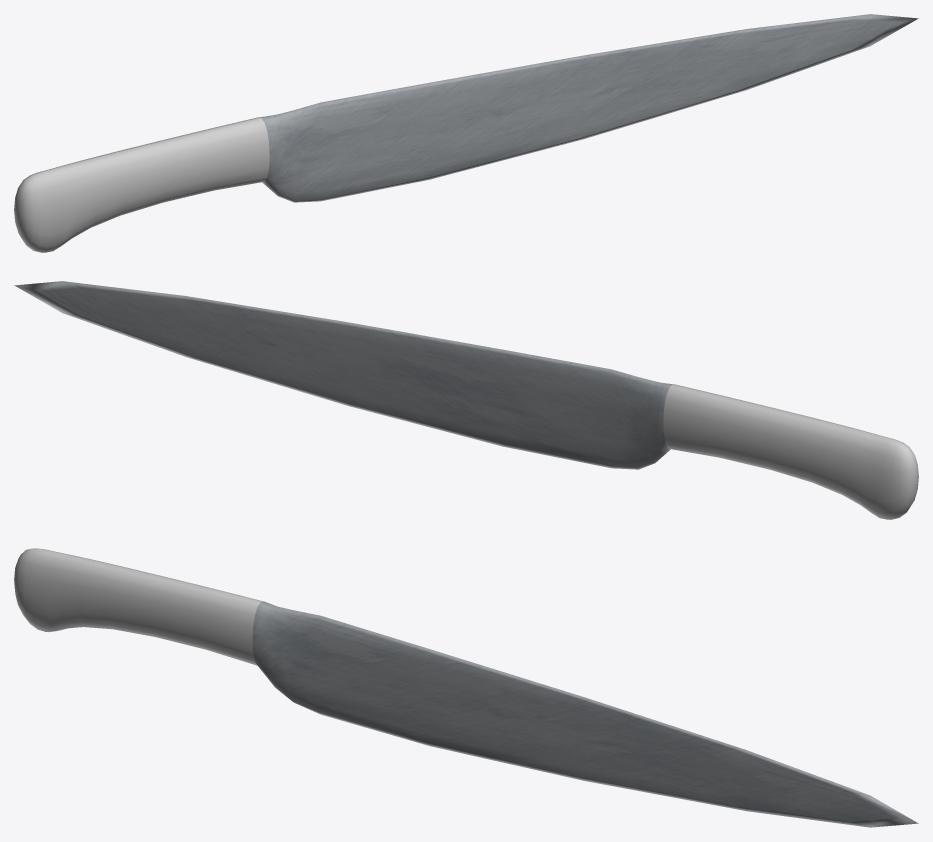
Rendered from knife.fbx.
3 renders of one model, top to bottom at view 1: azimuth 30°, elevation 25°; view 2: azimuth 150°, elevation 25°; view 3: azimuth 330°, elevation 25°, orthographic.
Parts seen in each view (by area): view 1: Cube; view 2: Cube; view 3: Cube.
Part boxes in pixels (x1,y1,x2,y2): Cube: [14, 14, 918, 252]; Cube: [14, 281, 918, 519]; Cube: [14, 548, 918, 827].
Size of the model in its own units: 383 by 42.1 by 13.41.
